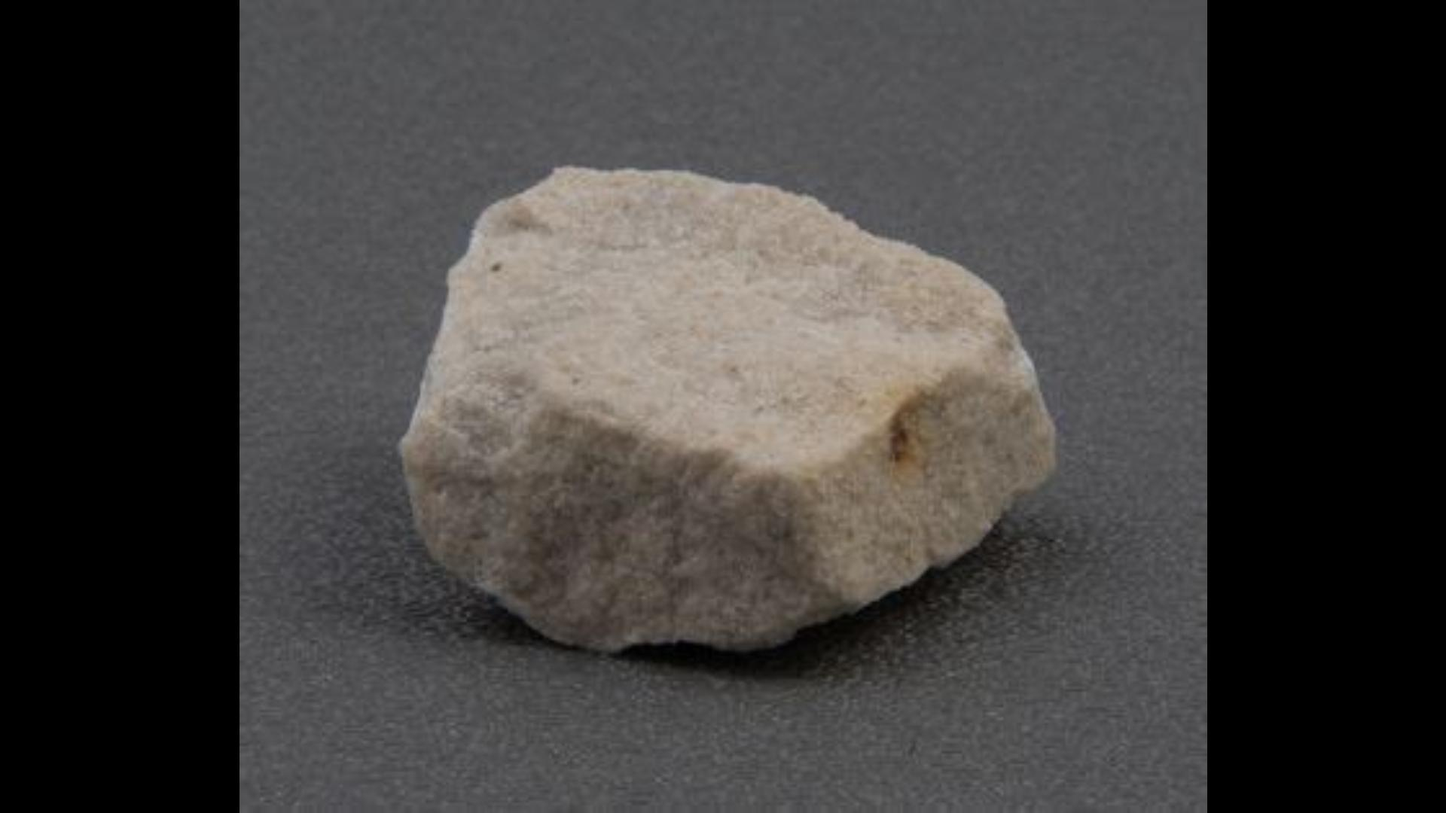rock: (404, 168, 1052, 648)
